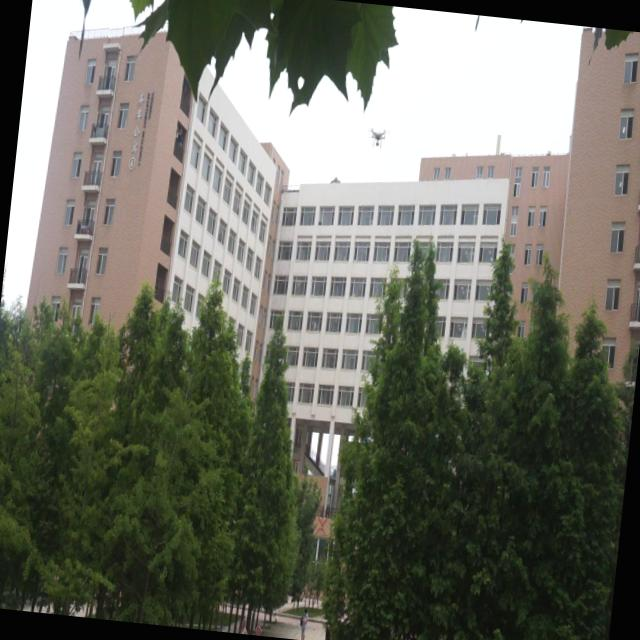drone: (367, 120, 388, 153)
